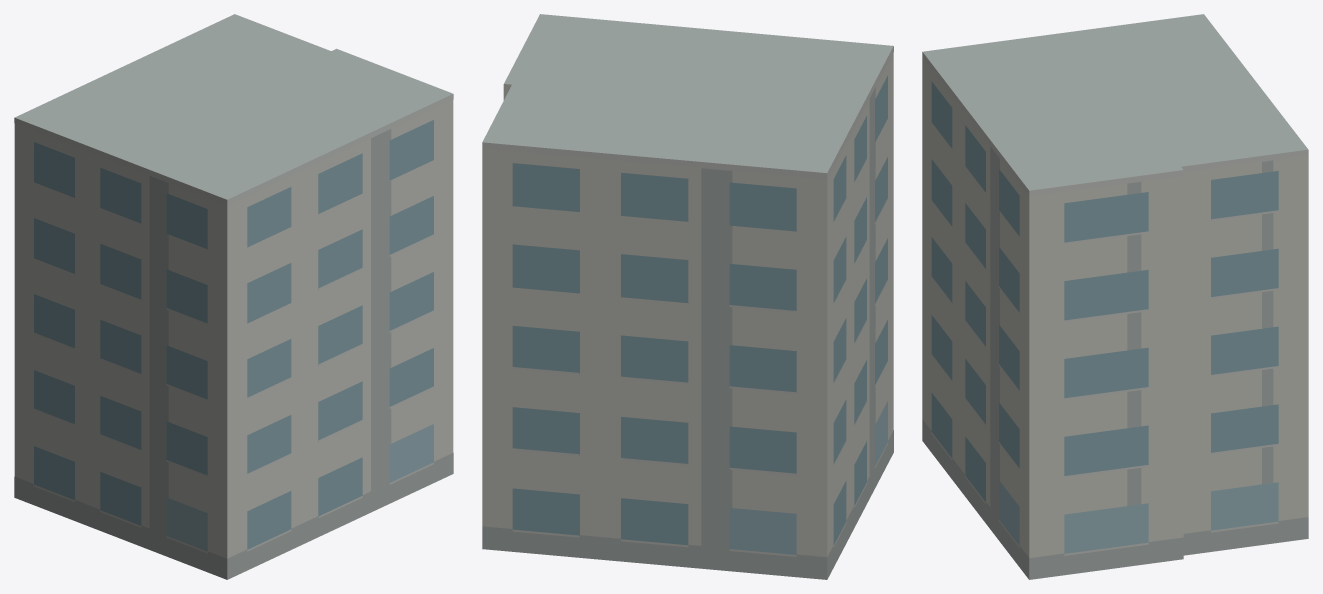
File: survey-upis-32999876.glb
The picture shows the model from 3 angles, left to right: view 1: azimuth 30°, elevation 25°; view 2: azimuth 150°, elevation 25°; view 3: azimuth 270°, elevation 25°; orthographic projection. The views are drawn at different scales.
Parts seen in each view (by area): view 1: survey-upis-32999876.tmp; view 2: survey-upis-32999876.tmp; view 3: survey-upis-32999876.tmp.
Part boxes in pixels (<box>): survey-upis-32999876.tmp: <box>14,14,453,579</box>; survey-upis-32999876.tmp: <box>482,14,893,579</box>; survey-upis-32999876.tmp: <box>922,14,1308,579</box>.
Size of the model in its own units: 15.35 by 15.75 by 14.17.
